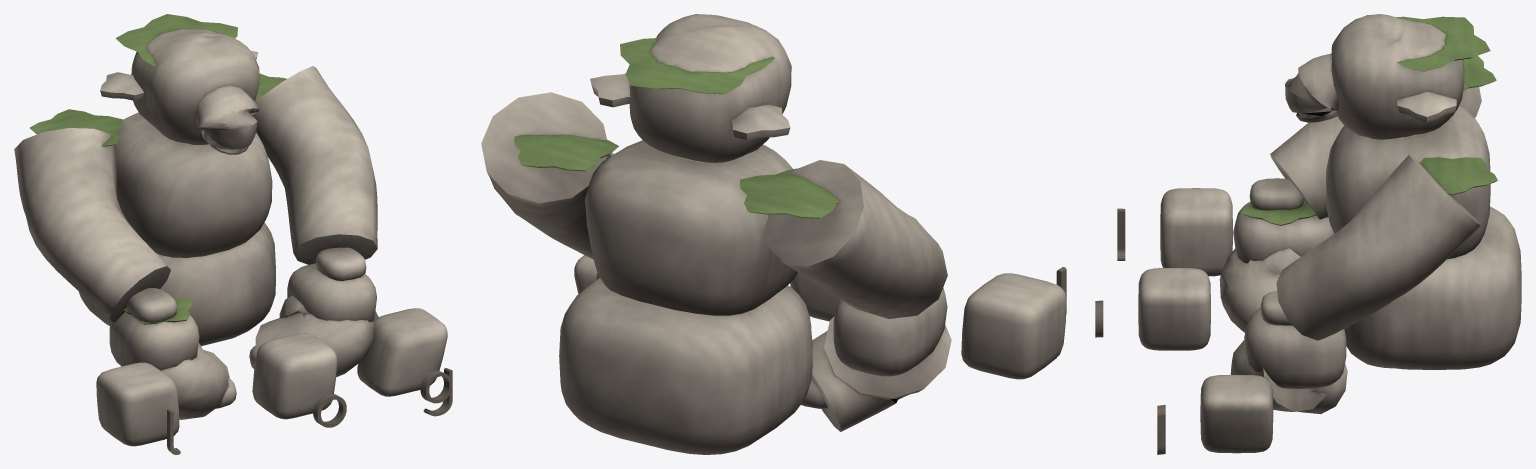
The model's file is troll.glb.
3 views of the same model, side by side, from view 1: azimuth 30°, elevation 25°; view 2: azimuth 150°, elevation 25°; view 3: azimuth 270°, elevation 25° (orthographic). The views are drawn at different scales.
Parts seen in each view (by area): view 1: Troll; view 2: Troll; view 3: Troll.
Part boxes in pixels (x1,y1,x2,y2): Troll: (14, 14, 452, 454); Troll: (481, 14, 1066, 454); Troll: (1095, 14, 1521, 454).
Size of the model in its own units: 2.23 by 2.05 by 2.2.
1 material, 1 textured.
